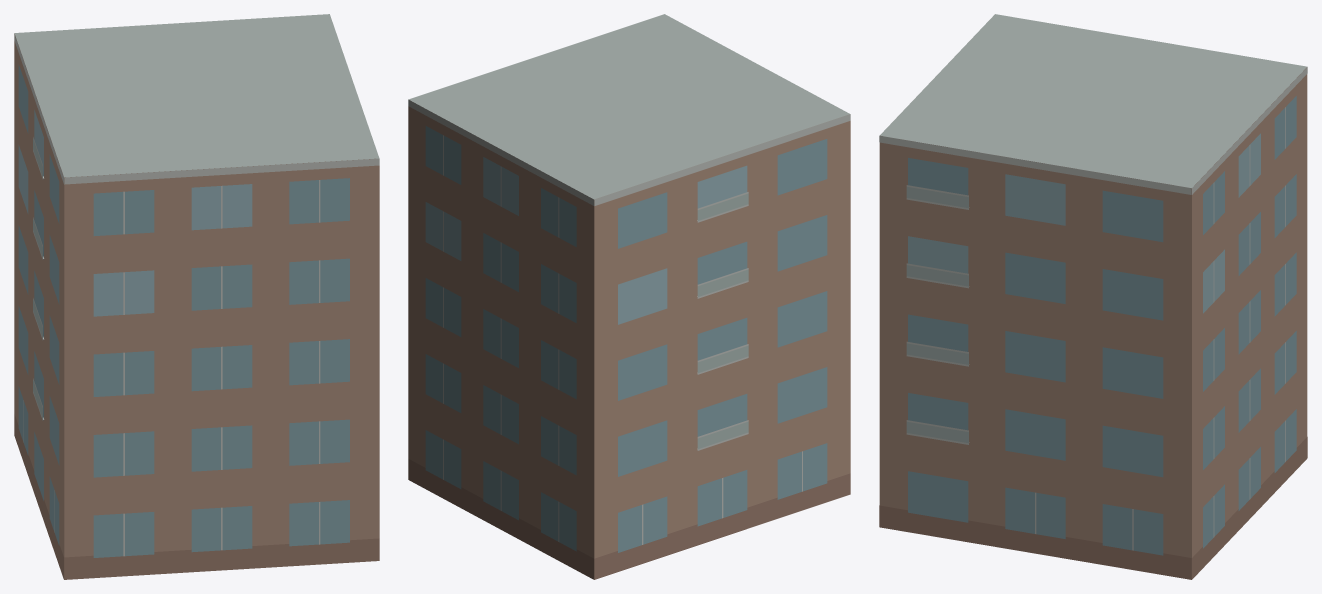
Rendered from survey-upis-32505028.glb.
3 views of the same model, side by side, from view 1: azimuth 30°, elevation 25°; view 2: azimuth 150°, elevation 25°; view 3: azimuth 270°, elevation 25° (orthographic). The views are drawn at different scales.
Visible parts, largest first — view 1: survey-upis-32505028.tmp; view 2: survey-upis-32505028.tmp; view 3: survey-upis-32505028.tmp.
Part boxes in pixels (<box>): survey-upis-32505028.tmp: <box>14,14,379,579</box>; survey-upis-32505028.tmp: <box>408,14,850,579</box>; survey-upis-32505028.tmp: <box>879,14,1307,579</box>.
Bounding box in the file's own units: 13.32 × 13.95 × 13.82.
